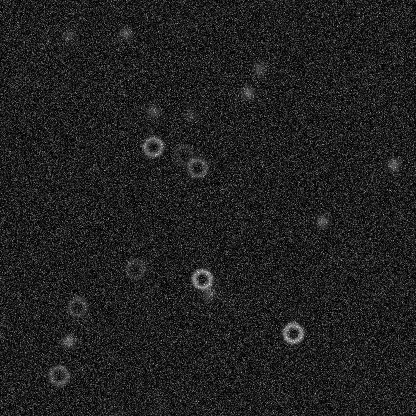Ring: (172, 142, 196, 166), (123, 256, 147, 280), (46, 363, 70, 387), (65, 294, 89, 318), (280, 320, 304, 344), (140, 134, 164, 158), (189, 266, 213, 290), (185, 155, 209, 179)
Spot: (314, 212, 330, 228), (117, 25, 133, 41), (251, 60, 267, 76), (60, 333, 76, 349), (240, 84, 256, 100), (182, 106, 198, 122), (385, 156, 401, 172), (145, 102, 161, 118), (60, 27, 76, 43), (200, 285, 216, 301)
